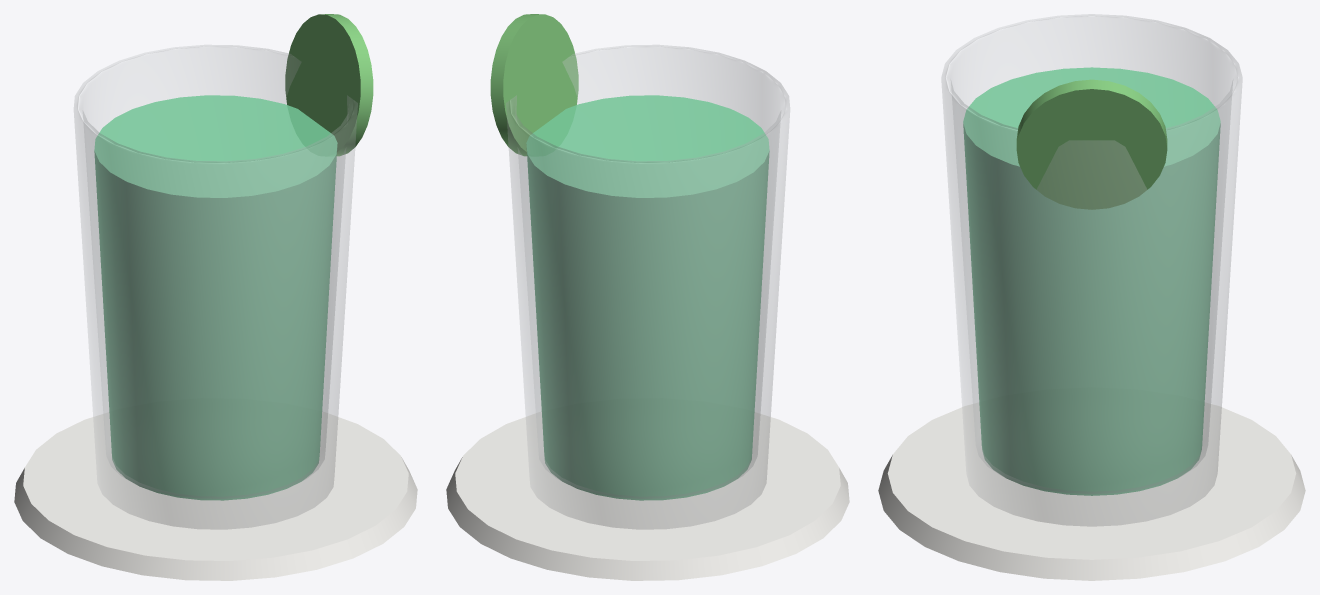
The model's file is kaffir-lime-mocktail-balanced.glb.
The picture shows the model from 3 angles, left to right: view 1: azimuth 30°, elevation 25°; view 2: azimuth 150°, elevation 25°; view 3: azimuth 270°, elevation 25°; orthographic projection. The views are drawn at different scales.
Visible parts, largest first — view 1: kaffir-lime-mocktail_Mat_Glass_Container_Node, kaffir-lime-mocktail_Mat_Beverage_Liquid_Node, kaffir-lime-mocktail_Mat_Ceramic_Plate_Node, kaffir-lime-mocktail_Mat_Fresh_Vegetables_Node; view 2: kaffir-lime-mocktail_Mat_Glass_Container_Node, kaffir-lime-mocktail_Mat_Beverage_Liquid_Node, kaffir-lime-mocktail_Mat_Ceramic_Plate_Node, kaffir-lime-mocktail_Mat_Fresh_Vegetables_Node; view 3: kaffir-lime-mocktail_Mat_Glass_Container_Node, kaffir-lime-mocktail_Mat_Beverage_Liquid_Node, kaffir-lime-mocktail_Mat_Ceramic_Plate_Node, kaffir-lime-mocktail_Mat_Fresh_Vegetables_Node.
Boxes of the visible parts, x1,y1,x2,y2 form: kaffir-lime-mocktail_Mat_Glass_Container_Node: (74, 45, 357, 529); kaffir-lime-mocktail_Mat_Beverage_Liquid_Node: (94, 95, 337, 500); kaffir-lime-mocktail_Mat_Ceramic_Plate_Node: (14, 412, 417, 580); kaffir-lime-mocktail_Mat_Fresh_Vegetables_Node: (285, 14, 373, 156); kaffir-lime-mocktail_Mat_Glass_Container_Node: (506, 45, 789, 529); kaffir-lime-mocktail_Mat_Beverage_Liquid_Node: (526, 95, 769, 500); kaffir-lime-mocktail_Mat_Ceramic_Plate_Node: (446, 412, 849, 580); kaffir-lime-mocktail_Mat_Fresh_Vegetables_Node: (490, 14, 578, 156); kaffir-lime-mocktail_Mat_Glass_Container_Node: (941, 14, 1242, 526); kaffir-lime-mocktail_Mat_Beverage_Liquid_Node: (963, 67, 1220, 495); kaffir-lime-mocktail_Mat_Ceramic_Plate_Node: (878, 402, 1305, 580); kaffir-lime-mocktail_Mat_Fresh_Vegetables_Node: (1016, 79, 1167, 209).
Bounding box in the file's own units: 0.136 × 0.166 × 0.136.
